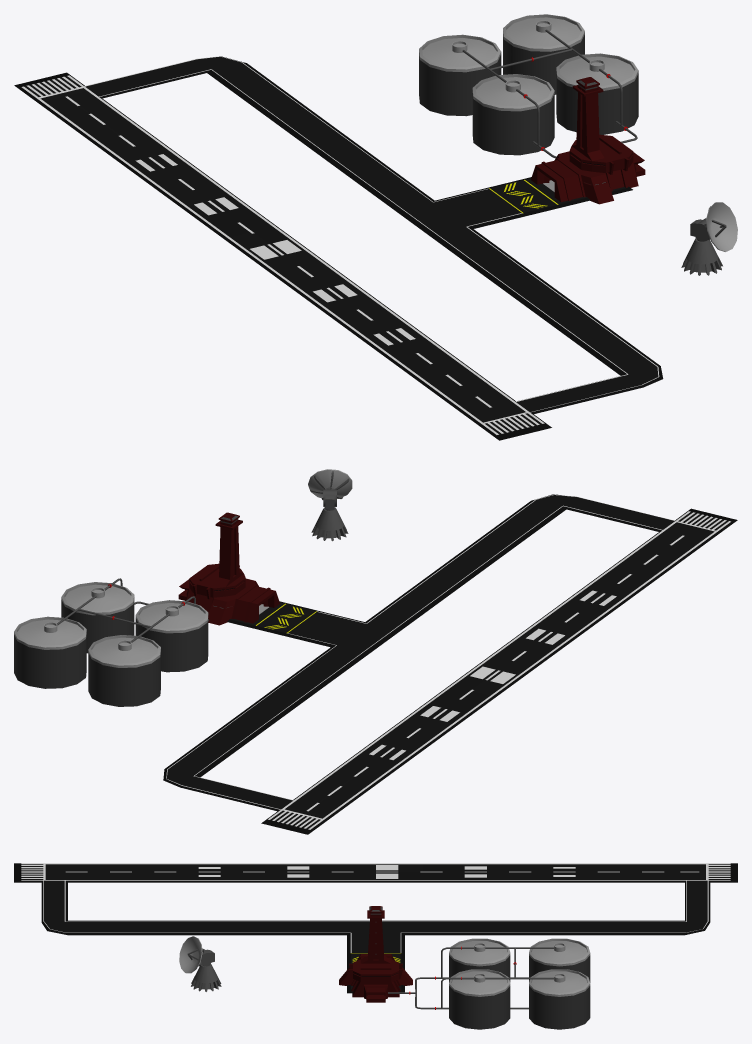
File: SnowstoneRunway.fbx
3 renders of one model, top to bottom at view 1: azimuth 30°, elevation 25°; view 2: azimuth 150°, elevation 25°; view 3: azimuth 270°, elevation 25°, orthographic. The views are drawn at different scales.
Parts seen in each view (by area): view 1: RunwayEvil, FuelTanks, RunwayEvilBase, Satellite; view 2: RunwayEvil, FuelTanks, RunwayEvilBase, Satellite; view 3: RunwayEvil, FuelTanks, RunwayEvilBase, Satellite.
Part boxes in pixels (x1,y1,x2,y2): RunwayEvil: (14, 56, 663, 440); FuelTanks: (419, 14, 638, 158); RunwayEvilBase: (531, 77, 645, 204); Satellite: (681, 202, 737, 275); RunwayEvil: (163, 494, 737, 834); FuelTanks: (14, 578, 208, 706); RunwayEvilBase: (178, 512, 279, 625); Satellite: (308, 469, 352, 541); RunwayEvil: (14, 863, 737, 993); FuelTanks: (388, 938, 590, 1029); RunwayEvilBase: (339, 906, 412, 1002); Satellite: (179, 936, 221, 991).
Size of the model in its own units: 12.41 by 2.86 by 23.39.
